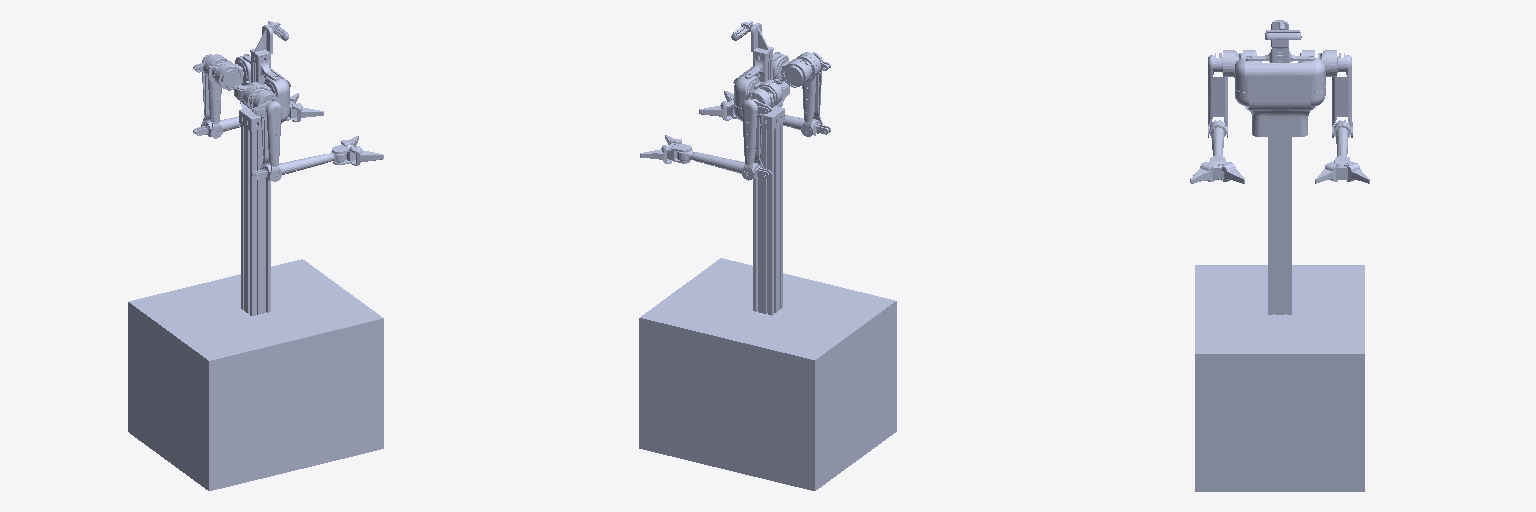
The robot description file, URDF, robot "RobotBimanualV4":
<?xml version="1.0" encoding="utf-8"?>
<!-- This URDF was automatically created by SolidWorks to URDF Exporter! Originally created by [author] ([email redacted]) 
     Commit Version: 1.6.0-4-g7f85cfe  Build Version: 1.6.7995.38578
     For more information, please see http://wiki.ros.org/sw_urdf_exporter -->
<robot
  name="RobotBimanualV4">
  <link name="base_link_mobile">
    <inertial>
      <mass value="0.0"/>
      <origin rpy="0 0 0" xyz="0 0 0"/>
      <inertia ixx="0.0" ixy="0.0" ixz="0.0" iyy="0.0" iyz="0.0" izz="0.0"/>
    </inertial>
  </link>
  <joint name="base_link-base_link_inertia" type="fixed">
    <parent link="base_link_mobile"/>
    <child link="base_link"/>
    <origin rpy="0 0 0" xyz="0 0 0"/>
  </joint>
  <link
    name="base_link">
    <inertial>
      <origin
        xyz="0.00507379776771603 0.000344479206440096 0.493021917987909"
        rpy="0 0 0" />
      <mass
        value="6.48543411303863" />
      <inertia
        ixx="0.337312998632581"
        ixy="-7.79460815808494E-06"
        ixz="-0.00341337207209014"
        iyy="0.336184764674995"
        iyz="2.35532268575879E-05"
        izz="0.00769415237418266" />
    </inertial>
    <visual>
      <origin
        xyz="0 0 0"
        rpy="0 0 0" />
      <geometry>
        <!-- <mesh
          filename="package://RobotBimanualV4//visual/base_link.obj" /> -->
        <mesh
          filename="package://RobotBimanualV4//visual/base_mobile.obj" />
      </geometry>
      <material
        name="">
        <color
          rgba="0.792156862745098 0.819607843137255 0.933333333333333 1" />
      </material>
    </visual>
    <collision>
      <origin
        xyz="0 0 0"
        rpy="0 0 0" />
      <geometry>
        <!-- <mesh
          filename="package://RobotBimanualV4//collision/base_link.obj" /> -->
        <mesh
          filename="package://RobotBimanualV4//cvx/0_coacd/base_mobile.obj" />
      </geometry>
    </collision>
  </link>
  <link
    name="link1">
    <inertial>
      <origin
        xyz="0.00277367 6.161E-05 0.05165334"
        rpy="0 0 0" />
      <mass
        value="0.706" />
      <inertia
        ixx="0.00074611"
        ixy="5.4E-07"
        ixz="5.3E-07"
        iyy="0.00054009"
        iyz="3.26E-06"
        izz="0.00050643" />
    </inertial>
    <visual>
      <origin
        xyz="0 0 0"
        rpy="0 0 0" />
      <geometry>
        <mesh
          filename="package://RobotBimanualV4//visual/link1.obj" />
      </geometry>
      <material
        name="">
        <color
          rgba="0.79216 0.81961 0.93333 1" />
      </material>
    </visual>
    <collision>
      <origin
        xyz="0 0 0"
        rpy="0 0 0" />
      <geometry>
        <mesh
          filename="package://RobotBimanualV4//collision/link1.obj" />
      </geometry>
    </collision>
  </link>
  <joint
    name="joint1"
    type="revolute">
    <origin
      xyz="0.02 0.1036 0.8358"
      rpy="0 0 0" />
    <parent
      link="base_link" />
    <child
      link="link1" />
    <axis
      xyz="0 0 1" />
    <limit
      lower="-3"
      upper="3"
      effort="4"
      velocity="10.0" />
  </joint>
  <link
    name="link2">
    <inertial>
      <origin
        xyz="-0.00124394 -5.732E-05 0.0545228"
        rpy="0 0 0" />
      <mass
        value="0.659" />
      <inertia
        ixx="0.00064807"
        ixy="8.3E-07"
        ixz="-4.6E-07"
        iyy="0.00045162"
        iyz="-1.01E-06"
        izz="0.00043422" />
    </inertial>
    <visual>
      <origin
        xyz="0 0 0"
        rpy="0 0 0" />
      <geometry>
        <mesh
          filename="package://RobotBimanualV4//visual/link2.obj" />
      </geometry>
      <material
        name="">
        <color
          rgba="0.79216 0.81961 0.93333 1" />
      </material>
    </visual>
    <collision>
      <origin
        xyz="0 0 0"
        rpy="0 0 0" />
      <geometry>
        <mesh
          filename="package://RobotBimanualV4//collision/link2.obj" />
      </geometry>
    </collision>
  </link>
  <joint
    name="joint2"
    type="revolute">
    <origin
      xyz="-0.02205 0 0.0528"
      rpy="-1.5708 0 1.5708" />
    <parent
      link="link1" />
    <child
      link="link2" />
    <axis
      xyz="0 0 1" />
    <limit
      lower="-3"
      upper="3"
      effort="4"
      velocity="10.0" />
  </joint>
  <link
    name="link3">
    <inertial>
      <origin
        xyz="-0.03505493 -0.006151 0.05438578"
        rpy="0 0 0" />
      <mass
        value="1.095" />
      <inertia
        ixx="0.00161847"
        ixy="0.00042205"
        ixz="-0.00104433"
        iyy="0.0066165"
        iyz="-0.0001917"
        izz="0.00653551" />
    </inertial>
    <visual>
      <origin
        xyz="0 0 0"
        rpy="0 0 0" />
      <geometry>
        <mesh
          filename="package://RobotBimanualV4//visual/link3.obj" />
      </geometry>
      <material
        name="">
        <color
          rgba="0.79216 0.81961 0.93333 1" />
      </material>
    </visual>
    <collision>
      <origin
        xyz="0 0 0"
        rpy="0 0 0" />
      <geometry>
        <mesh
          filename="package://RobotBimanualV4//collision/link3.obj" />
      </geometry>
    </collision>
  </link>
  <joint
    name="joint3"
    type="revolute">
    <origin
      xyz="0.023 0 0.0565"
      rpy="-1.5708 0 -1.5708" />
    <parent
      link="link2" />
    <child
      link="link3" />
    <axis
      xyz="0 0 1" />
    <limit
      lower="-3.14159265"
      upper="3"
      effort="4"
      velocity="10.0" />
  </joint>
  <link
    name="link4">
    <inertial>
      <origin
        xyz="-0.00914828 -0.00042727 -7.12E-06"
        rpy="0 0 0" />
      <mass
        value="0.268" />
      <inertia
        ixx="9.136E-05"
        ixy="7E-08"
        ixz="-2E-08"
        iyy="0.00013894"
        iyz="0"
        izz="0.00013031" />
    </inertial>
    <visual>
      <origin
        xyz="0 0 0"
        rpy="0 0 0" />
      <geometry>
        <mesh
          filename="package://RobotBimanualV4//visual/link4.obj" />
      </geometry>
      <material
        name="">
        <color
          rgba="0.79216 0.81961 0.93333 1" />
      </material>
    </visual>
    <collision>
      <origin
        xyz="0 0 0"
        rpy="0 0 0" />
      <geometry>
        <mesh
          filename="package://RobotBimanualV4//collision/link4.obj" />
      </geometry>
    </collision>
  </link>
  <joint
    name="joint4"
    type="revolute">
    <origin
      xyz="-0.25 0 0.08318"
      rpy="0 0 1.5708" />
    <parent
      link="link3" />
    <child
      link="link4" />
    <axis
      xyz="0 0 1" />
    <limit
      lower="-3"
      upper="3"
      effort="4"
      velocity="10.0" />
  </joint>
  <link
    name="link5">
    <inertial>
      <origin
        xyz="-0.00143459 -5.019E-05 0.22261684"
        rpy="0 0 0" />
      <mass
        value="0.285" />
      <inertia
        ixx="0.00170458"
        ixy="1.5E-07"
        ixz="-2.111E-05"
        iyy="0.00168732"
        iyz="-5.6E-07"
        izz="7.029E-05" />
    </inertial>
    <visual>
      <origin
        xyz="0 0 0"
        rpy="0 0 0" />
      <geometry>
        <mesh
          filename="package://RobotBimanualV4//visual/link5.obj" />
      </geometry>
      <material
        name="">
        <color
          rgba="0.79216 0.81961 0.93333 1" />
      </material>
    </visual>
    <collision>
      <origin
        xyz="0 0 0"
        rpy="0 0 0" />
      <geometry>
        <mesh
          filename="package://RobotBimanualV4//collision/link5.obj" />
      </geometry>
    </collision>
  </link>
  <joint
    name="joint5"
    type="revolute">
    <origin
      xyz="0.014 0.00010349 0"
      rpy="-1.5708 0 -1.5708" />
    <parent
      link="link4" />
    <child
      link="link5" />
    <axis
      xyz="0 0 1" />
    <limit
      lower="-3.66519143"
      upper="3.66519143"
      effort="1"
      velocity="15.0" />
  </joint>

  <link
    name="link5-1">
    <inertial>
      <origin
        xyz="0 0 0"
        rpy="0 0 0" />
      <mass
        value="0.01" />
      <inertia
        ixx="0.00017786"
        ixy="1.81E-06"
        ixz="5.4E-07"
        iyy="0.00025338"
        iyz="-3.72E-06"
        izz="0.00030962" />
    </inertial>
    <visual>
      <origin
        xyz="0 0 0"
        rpy="0 0 0" />
      <geometry>
        <mesh
          filename="package://RobotBimanualV4//visual/link6.obj" scale="0.001 0.001 0.001"/>
      </geometry>
      <material
        name="">
        <color
          rgba="0.79216 0.81961 0.93333 1" />
      </material>
    </visual>
    <collision>
      <origin
        xyz="0 0 0"
        rpy="0 0 0" />
      <geometry>
        <mesh
          filename="package://RobotBimanualV4//collision/link6.obj" scale="0.001 0.001 0.001"/>
      </geometry>
    </collision>
  </link>
  <joint
      name="joint5-1"
      type="revolute">
      <origin
        xyz="0.012203 0 0.2634"
        rpy="1.5708 0 1.5708" />
      <parent
        link="link5" />
      <child
        link="link5-1" />
      <axis
        xyz="1 0 0" />
      <limit
        lower="-3"
        upper="3"
        effort="1"
        velocity="15.0" />
    </joint>

  <link
    name="link6">
    <inertial>
      <origin
        xyz="0.0001185 0.04488721 -0.01444679"
        rpy="0 0 0" />
      <mass
        value="0.23067563" />
      <inertia
        ixx="0.00017786"
        ixy="1.81E-06"
        ixz="5.4E-07"
        iyy="0.00025338"
        iyz="-3.72E-06"
        izz="0.00030962" />
    </inertial>
    <visual>
      <origin
        xyz="0 0 0"
        rpy="0 0 0" />
      <geometry>
        <mesh
          filename="package://RobotBimanualV4//visual/link6.obj" />
      </geometry>
      <material
        name="">
        <color
          rgba="0.79216 0.81961 0.93333 1" />
      </material>
    </visual>
    <collision>
      <origin
        xyz="0 0 0"
        rpy="0 0 0" />
      <geometry>
        <mesh
          filename="package://RobotBimanualV4//collision/link6.obj" />
      </geometry>
    </collision>
  </link>
  <joint
    name="joint6"
    type="revolute">
    <origin
      xyz="0 0 0"
      rpy="0 0 0" />
    <!-- <origin
      xyz="0.012203 0 0.2634"
      rpy="1.5708 0 1.5708" /> -->
    <parent
      link="link5-1" />
    <child
      link="link6" />
    <axis
      xyz="0 0 1" />
    <limit
      lower="-3"
      upper="3"
      effort="1"
      velocity="15.0" />
  </joint>
  <link
    name="link7">
    <inertial>
      <origin
        xyz="0.00239406 -0.00016204 0.05155291"
        rpy="0 0 0" />
      <mass
        value="0.706" />
      <inertia
        ixx="0.00074592"
        ixy="-2.03E-06"
        ixz="-1.52E-06"
        iyy="0.00053798"
        iyz="-3.35E-06"
        izz="0.00050821" />
    </inertial>
    <visual>
      <origin
        xyz="0 0 0"
        rpy="0 0 0" />
      <geometry>
        <mesh
          filename="package://RobotBimanualV4//visual/link7.obj" />
      </geometry>
      <material
        name="">
        <color
          rgba="0.79216 0.81961 0.93333 1" />
      </material>
    </visual>
    <collision>
      <origin
        xyz="0 0 0"
        rpy="0 0 0" />
      <geometry>
        <mesh
          filename="package://RobotBimanualV4//collision/link7.obj" />
      </geometry>
    </collision>
  </link>
  <joint
    name="joint7"
    type="revolute">
    <origin
      xyz="0.02 -0.1036 0.8358"
      rpy="0 0 0" />
    <parent
      link="base_link" />
    <child
      link="link7" />
    <axis
      xyz="0 0 1" />
    <limit
      lower="-3"
      upper="3"
      effort="4"
      velocity="10.00" />  
  </joint>
  <link
    name="link8">
    <inertial>
      <origin
        xyz="-0.00124394 7.606E-05 0.05454155"
        rpy="0 0 0" />
      <mass
        value="0.659" />
      <inertia
        ixx="0.00064811"
        ixy="-1.1E-06"
        ixz="-7.3E-07"
        iyy="0.0004522"
        iyz="1.03E-06"
        izz="0.00043369" />
    </inertial>
    <visual>
      <origin
        xyz="0 0 0"
        rpy="0 0 0" />
      <geometry>
        <mesh
          filename="package://RobotBimanualV4//visual/link8.obj" />
      </geometry>
      <material
        name="">
        <color
          rgba="0.79216 0.81961 0.93333 1" />
      </material>
    </visual>
    <collision>
      <origin
        xyz="0 0 0"
        rpy="0 0 0" />
      <geometry>
        <mesh
          filename="package://RobotBimanualV4//collision/link8.obj" />
      </geometry>
    </collision>
  </link>
  <joint
    name="joint8"
    type="revolute">
    <origin
      xyz="-0.02205 0 0.0528"
      rpy="1.5708 0 -1.5708" />
    <parent
      link="link7" />
    <child
      link="link8" />
    <axis
      xyz="0 0 1" />
    <limit
      lower="-3"
      upper="3"
      effort="4"
      velocity="10.00" />
  </joint>
  <link
    name="link9">
    <inertial>
      <origin
        xyz="-0.03505563 0.00468094 0.05453087"
        rpy="0 0 0" />
      <mass
        value="1.095" />
      <inertia
        ixx="0.00161845"
        ixy="-0.00039365"
        ixz="-0.00105521"
        iyy="0.00662637"
        iyz="0.00018923"
        izz="0.00652496" />
    </inertial>
    <visual>
      <origin
        xyz="0 0 0"
        rpy="0 0 0" />
      <geometry>
        <mesh
          filename="package://RobotBimanualV4//visual/link9.obj" />
      </geometry>
      <material
        name="">
        <color
          rgba="0.79216 0.81961 0.93333 1" />
      </material>
    </visual>
    <collision>
      <origin
        xyz="0 0 0"
        rpy="0 0 0" />
      <geometry>
        <mesh
          filename="package://RobotBimanualV4//collision/link9.obj" />
      </geometry>
    </collision>
  </link>
  <joint
    name="joint9"
    type="revolute">
    <origin
      xyz="0.023 0 0.0565"
      rpy="1.5708 0 1.5708" />
    <parent
      link="link8" />
    <child
      link="link9" />
    <axis
      xyz="0 0 1" />
    <limit
      lower="-3"
      upper="3.14159265"
      effort="4"
      velocity="10.00" />
  </joint>
  <link
    name="link10">
    <inertial>
      <origin
        xyz="-0.00914828 -0.00042727 7.13E-06"
        rpy="0 0 0" />
      <mass
        value="0.268" />
      <inertia
        ixx="9.136E-05"
        ixy="7E-08"
        ixz="2E-08"
        iyy="0.00013894"
        iyz="0"
        izz="0.00013031" />
    </inertial>
    <visual>
      <origin
        xyz="0 0 0"
        rpy="0 0 0" />
      <geometry>
        <mesh
          filename="package://RobotBimanualV4//visual/link10.obj" />
      </geometry>
      <material
        name="">
        <color
          rgba="0.79216 0.81961 0.93333 1" />
      </material>
    </visual>
    <collision>
      <origin
        xyz="0 0 0"
        rpy="0 0 0" />
      <geometry>
        <mesh
          filename="package://RobotBimanualV4//collision/link10.obj" />
      </geometry>
    </collision>
  </link>
  <joint
    name="joint10"
    type="revolute">
    <origin
      xyz="-0.25 0 0.08318"
      rpy="-3.1416 0 -1.5708" />
    <parent
      link="link9" />
    <child
      link="link10" />
    <axis
      xyz="0 0 1" />
    <limit
      lower="-3"
      upper="3"
      effort="4"
      velocity="10.00" />
  </joint>
  <link
    name="link11">
    <inertial>
      <origin
        xyz="-0.00143459 -5.019E-05 0.22261684"
        rpy="0 0 0" />
      <mass
        value="0.285" />
      <inertia
        ixx="0.00170458"
        ixy="1.5E-07"
        ixz="-2.111E-05"
        iyy="0.00168732"
        iyz="-5.6E-07"
        izz="7.029E-05" />
    </inertial>
    <visual>
      <origin
        xyz="0 0 0"
        rpy="0 0 0" />
      <geometry>
        <mesh
          filename="package://RobotBimanualV4//visual/link11.obj" />
      </geometry>
      <material
        name="">
        <color
          rgba="0.79216 0.81961 0.93333 1" />
      </material>
    </visual>
    <collision>
      <origin
        xyz="0 0 0"
        rpy="0 0 0" />
      <geometry>
        <mesh
          filename="package://RobotBimanualV4//collision/link11.obj" />
      </geometry>
    </collision>
  </link>
  <joint
    name="joint11"
    type="revolute">
    <origin
      xyz="0.014 0.00010349 0"
      rpy="-1.5708 0 -1.5708" />
    <parent
      link="link10" />
    <child
      link="link11" />
    <axis
      xyz="0 0 1" />
    <limit
      lower="-3.66519143"
      upper="3"
      effort="1"
      velocity="15.00" />
  </joint>


  
  <link
    name="link11-1">
    <inertial>
      <origin
        xyz="0 0 0"
        rpy="0 0 0" />
      <mass
        value="0.01" />
      <inertia
        ixx="0.00017786"
        ixy="1.81E-06"
        ixz="5.4E-07"
        iyy="0.00025338"
        iyz="-3.72E-06"
        izz="0.00030962" />
    </inertial>
    <visual>
      <origin
        xyz="0 0 0"
        rpy="0 0 0" />
      <geometry>
        <mesh
          filename="package://RobotBimanualV4//visual/link12.obj" scale="0.001 0.001 0.001"/>
      </geometry>
      <material
        name="">
        <color
          rgba="0.79216 0.81961 0.93333 1" />
      </material>
    </visual>
    <collision>
      <origin
        xyz="0 0 0"
        rpy="0 0 0" />
      <geometry>
        <mesh
          filename="package://RobotBimanualV4//collision/link12.obj" scale="0.001 0.001 0.001"/>
      </geometry>
    </collision>
  </link>
  <joint
      name="joint11-1"
      type="revolute">
      <origin
        xyz="0.012203 0 0.2634"
        rpy="1.5708 0 1.5708" />
      <parent
        link="link11" />
      <child
        link="link11-1" />
      <axis
        xyz="1 0 0" />
      <limit
        lower="-3"
        upper="3"
        effort="1"
        velocity="15.0" />
    </joint>



  <link
    name="link12">
    <inertial>
      <origin
        xyz="0.0001185 0.04488721 -0.01444679"
        rpy="0 0 0" />
      <mass
        value="0.23067563" />
      <inertia
        ixx="0.00017786"
        ixy="1.81E-06"
        ixz="5.4E-07"
        iyy="0.00025338"
        iyz="-3.72E-06"
        izz="0.00030962" />
    </inertial>
    <visual>
      <origin
        xyz="0 0 0"
        rpy="0 0 0" />
      <geometry>
        <mesh
          filename="package://RobotBimanualV4//visual/link12.obj" />
      </geometry>
      <material
        name="">
        <color
          rgba="0.79216 0.81961 0.93333 1" />
      </material>
    </visual>
    <collision>
      <origin
        xyz="0 0 0"
        rpy="0 0 0" />
      <geometry>
        <mesh
          filename="package://RobotBimanualV4//collision/link12.obj" />
      </geometry>
    </collision>
  </link>
  <joint
    name="joint12"
    type="revolute">
    <origin
      xyz="0 0 0 "
      rpy="0 0 0" />
    <parent
      link="link11-1" />
    <child
      link="link12" />
    <axis
      xyz="0 0 1" />
    <limit
      lower="-3"
      upper="3"
      effort="1"
      velocity="15.00" />
  </joint>
</robot>

--- Facts derived from the render (not from the file) ---
The picture shows the robot from 3 angles, left to right: view 1: azimuth 30°, elevation 25°; view 2: azimuth 150°, elevation 25°; view 3: azimuth 270°, elevation 25°; orthographic projection.
Model RobotBimanualV4 with 16 links and 15 joints (14 revolute, 1 fixed), rooted at base_link_mobile, posed every joint at zero.
Links seen in each view (by area): view 1: base_link, link9, link3, link12, link11, link2; view 2: base_link, link3, link9, link5, link6, link8; view 3: base_link, link3, link9, link12, link6.
Link boxes in pixels (x1,y1,x2,y2): base_link: (128, 21, 383, 490); link9: (250, 90, 281, 181); link3: (193, 54, 231, 138); link12: (332, 136, 383, 165); link11: (279, 151, 346, 174); link2: (215, 62, 243, 90); base_link: (639, 21, 896, 490); link3: (742, 88, 773, 180); link9: (793, 52, 830, 136); link5: (677, 150, 744, 173); link6: (640, 135, 691, 163); link8: (781, 59, 809, 87); base_link: (1195, 20, 1364, 491); link3: (1318, 50, 1352, 137); link9: (1208, 50, 1242, 137); link12: (1190, 156, 1244, 183); link6: (1315, 156, 1369, 183).
Size in the robot's own frame: 0.715 by 0.6043 by 1.61 metres.
15 mesh visuals loaded from 13 distinct referenced files (13 OBJ).
